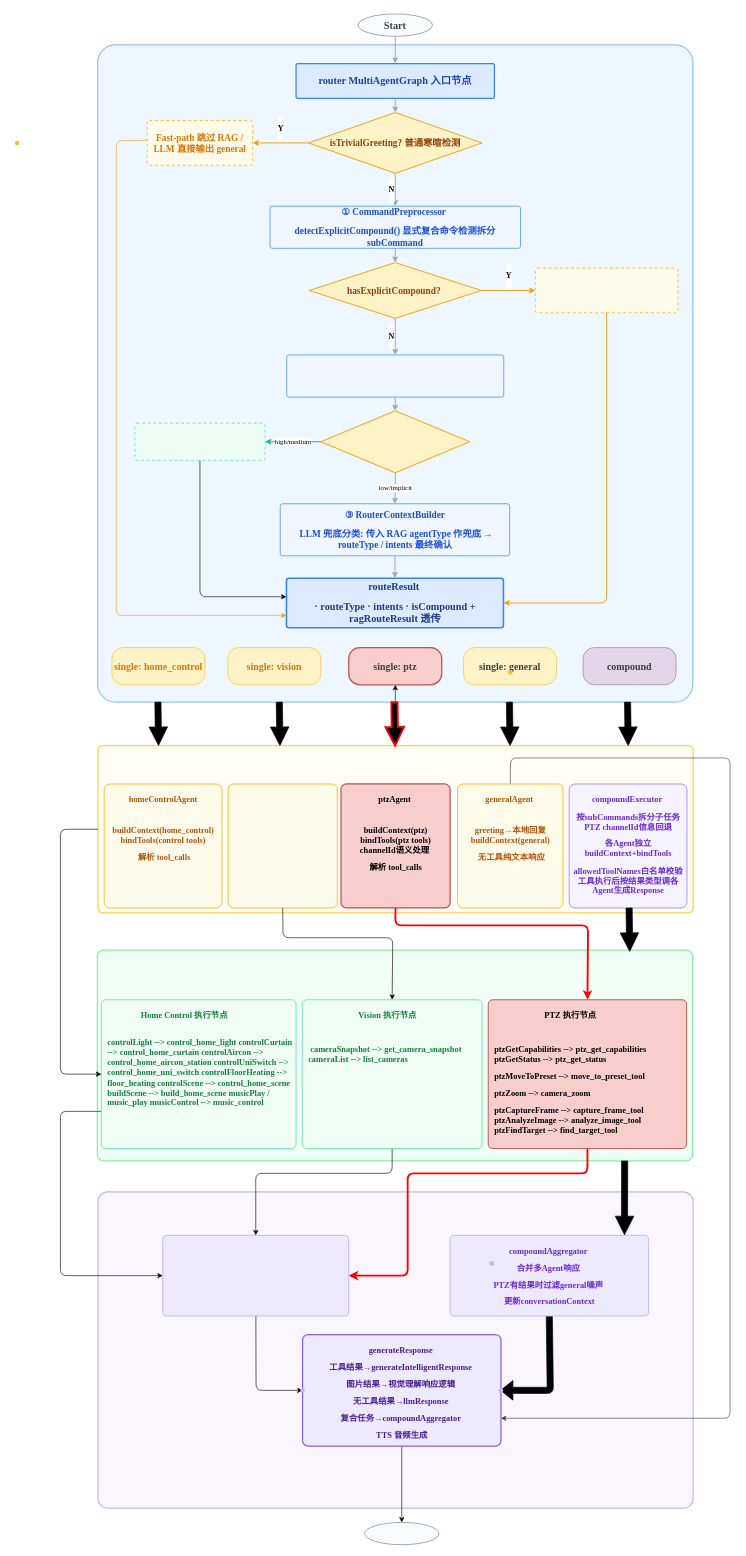
The diagram is 746 pixels wide and 1556 high, and some of its shapes have lost their labels. The box of each missing label's shape, as (x1, y1, x2, y2) in pixels:
aggregateResults 汇总 toolResults / toolCalls 更新 conversationContext: (162, 1235, 349, 1316)
End: (364, 1522, 439, 1545)
handleExplicitCompound 拆分后并行 RAG 路由 → routeResult: (535, 267, 678, 313)
RAG confidence? 置信度判断: (320, 410, 470, 473)
visionAgent buildContext(vision) bindTools(camera tools) 解析 tool_calls: (227, 783, 337, 908)
② KnowledgeService RAG 向量检索 → confidence / agentType: (286, 354, 504, 397)
直接路由 → routeResult: (134, 422, 265, 461)
第一层 路由层 (routerNode): (97, 44, 693, 702)
第三层 工具执行节点层: (96, 949, 693, 1161)
第二层 Agent 层: (97, 745, 693, 913)
第四层 结果处理层: (97, 1191, 693, 1508)
